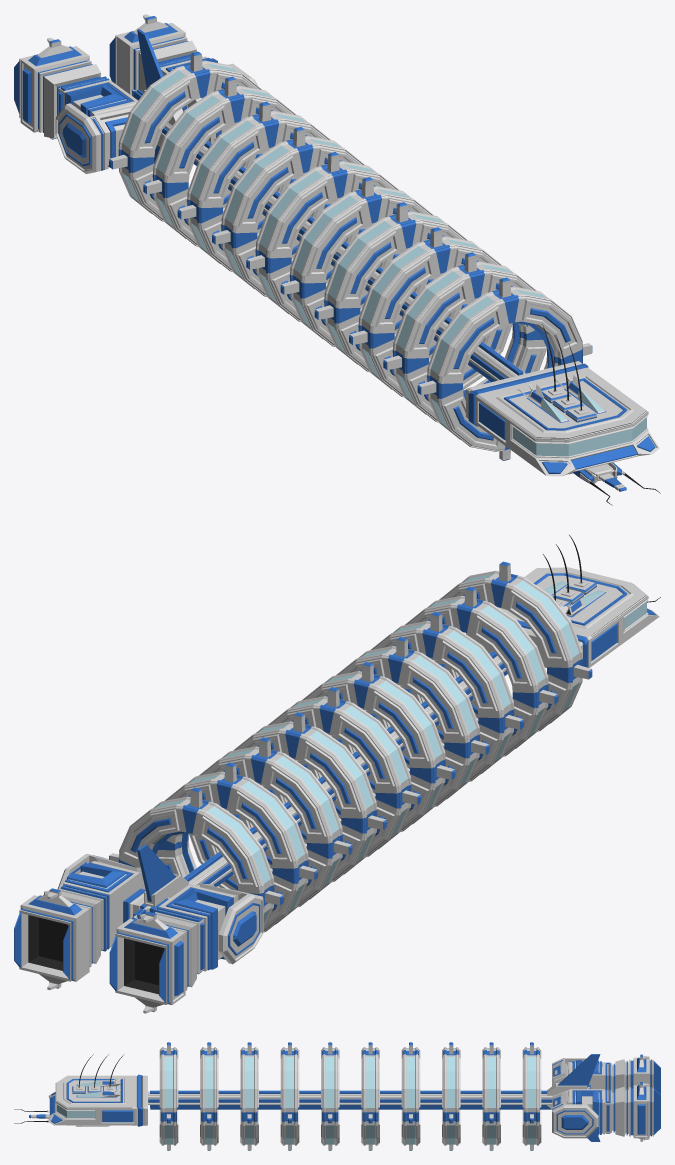
File: mothership.glb
The picture shows the model from 3 angles, top to bottom: view 1: azimuth 30°, elevation 25°; view 2: azimuth 150°, elevation 25°; view 3: azimuth 270°, elevation 25°; orthographic projection. The views are drawn at different scales.
Visible parts, largest first — view 1: Object_4, Object_3, Object_11, Object_2, Object_10, Object_12, Object_5; view 2: Object_4, Object_3, Object_11, Object_10, Object_2, Object_6, Object_12, Object_5; view 3: Object_4, Object_3, Object_10, Object_2, Object_11, Object_5, Object_12.
Boxes of the visible parts, x1=… form: Object_4: x1=110, y1=54, x2=591, y2=460; Object_3: x1=19, y1=14, x2=659, y2=490; Object_11: x1=109, y1=51, x2=592, y2=460; Object_2: x1=122, y1=63, x2=646, y2=456; Object_10: x1=14, y1=16, x2=596, y2=422; Object_12: x1=468, y1=363, x2=655, y2=491; Object_5: x1=160, y1=122, x2=525, y2=380; Object_4: x1=109, y1=564, x2=591, y2=959; Object_3: x1=19, y1=567, x2=659, y2=1013; Object_11: x1=109, y1=561, x2=592, y2=911; Object_10: x1=14, y1=583, x2=596, y2=1011; Object_2: x1=155, y1=574, x2=646, y2=923; Object_6: x1=28, y1=597, x2=660, y2=994; Object_12: x1=517, y1=573, x2=655, y2=667; Object_5: x1=188, y1=656, x2=506, y2=884; Object_4: x1=159, y1=1045, x2=541, y2=1149; Object_3: x1=31, y1=1055, x2=653, y2=1141; Object_10: x1=72, y1=1054, x2=660, y2=1141; Object_2: x1=56, y1=1048, x2=535, y2=1144; Object_11: x1=160, y1=1042, x2=539, y2=1150; Object_5: x1=148, y1=1091, x2=554, y2=1104; Object_12: x1=29, y1=1074, x2=143, y2=1126.
Size of the model in its own units: 3.08 by 3.05 by 16.82.
